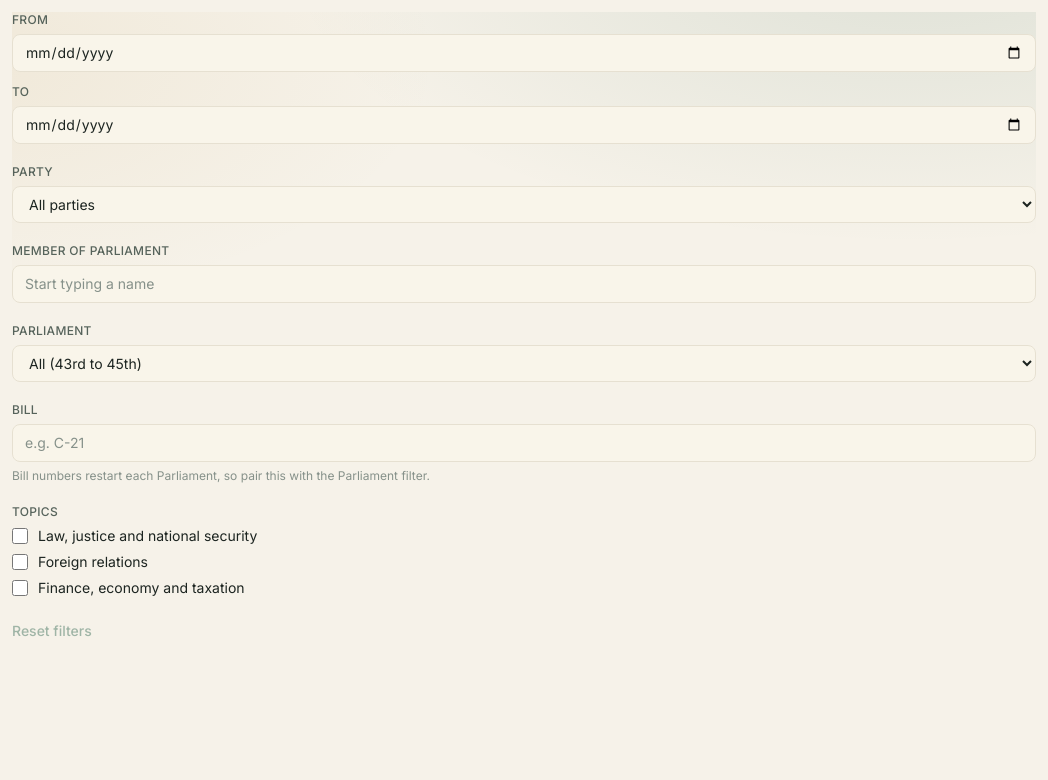
it: FilterPanel › offers MP name suggestions after a short pause and applies the chosen one
This screenshot has width=1048, height=780.
Type "poil" into the dropdown labelled "Member of Parliament" at (524, 284), box 12,265 -> 1036,303
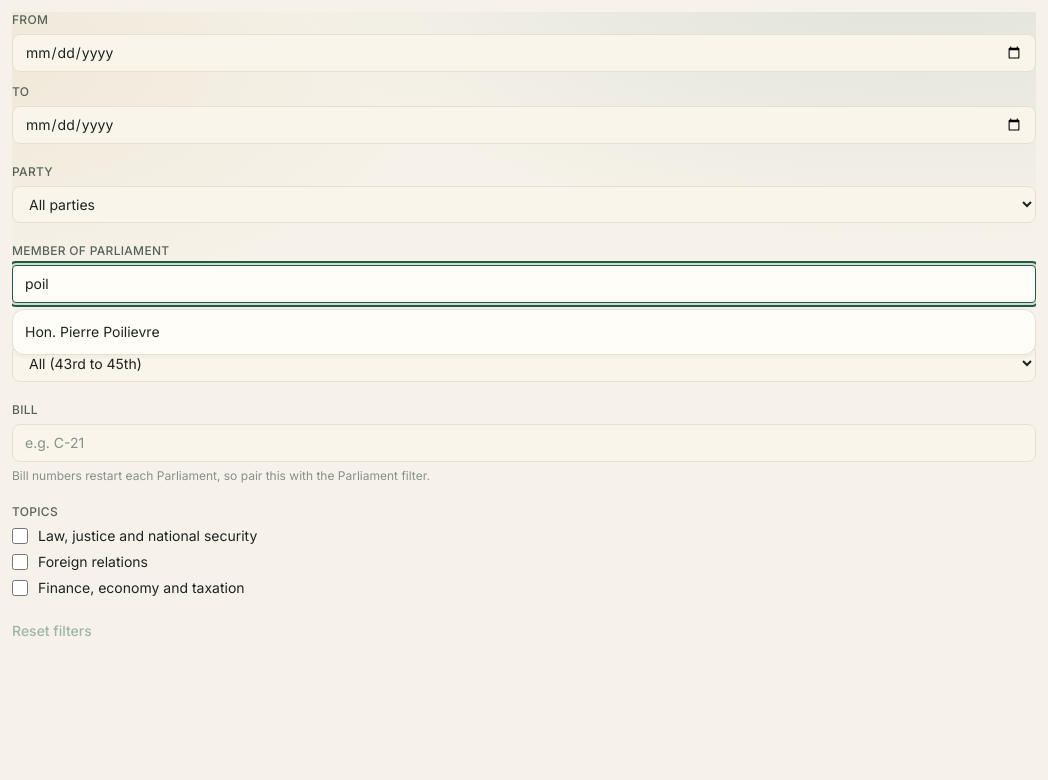
Click the option "Hon. Pierre Poilievre" at (92, 332), box 25,323 -> 160,340
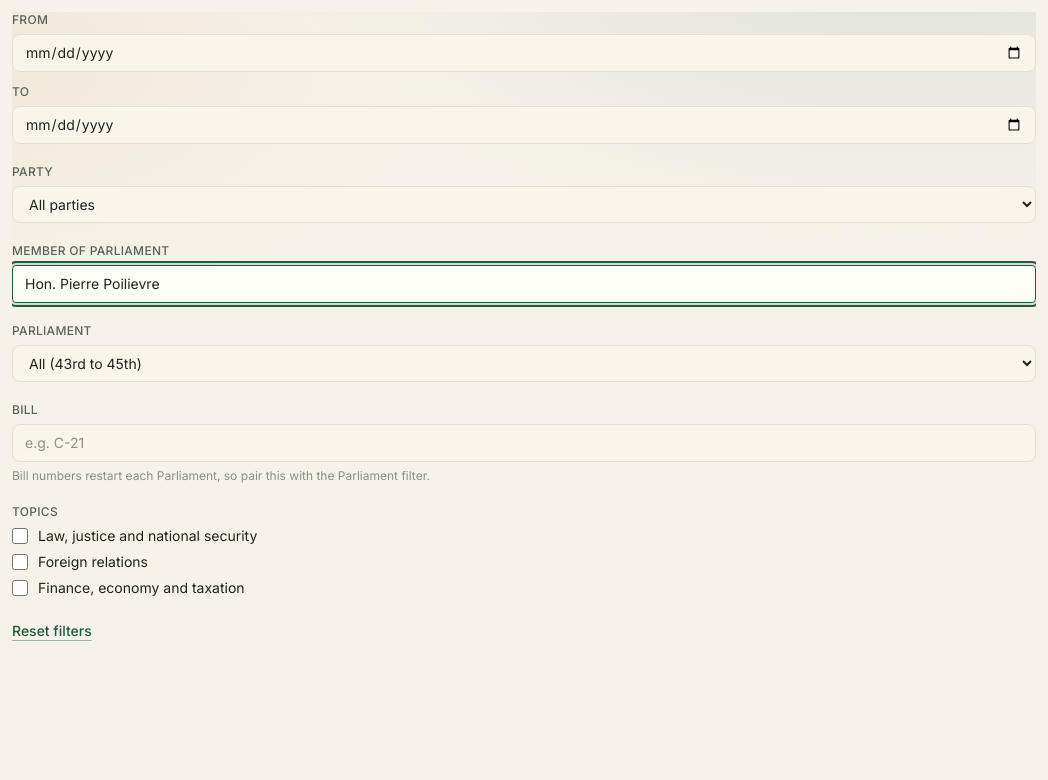
expect the dropdown labelled "Member of Parliament" holds "Hon. Pierre Poilievre": met, box 12,265 -> 1036,303
